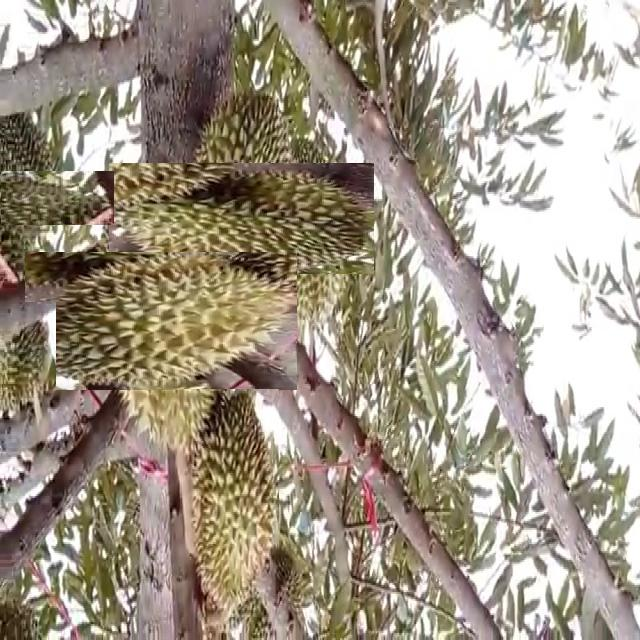durian: (58, 219, 263, 424), (147, 124, 336, 312), (180, 389, 278, 617), (268, 134, 352, 337), (0, 143, 85, 255), (1, 302, 56, 419)
